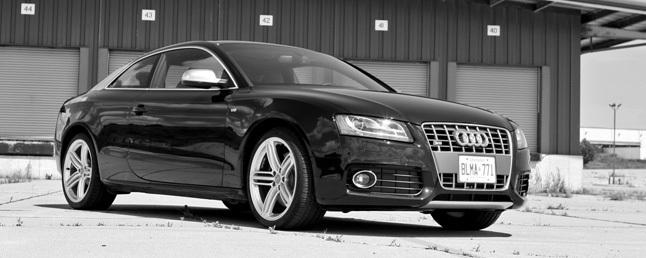car: (31, 31, 593, 251)
